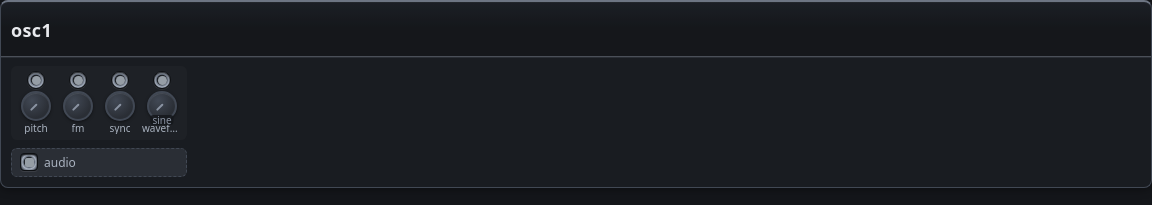
Scenario: module rename › double-click edits; Enter commits the typed name
The width and height of the screenshot is (1152, 205).
Double-click the text with test id "module-name-osc1" at (32, 30), box [11,20,52,38]
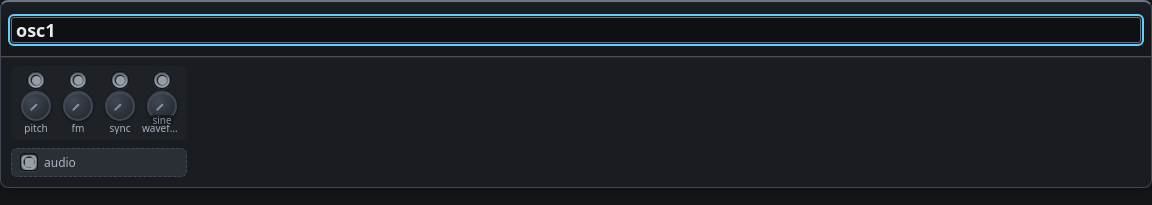
Expected: the field with test id "module-rename-osc1" holds "osc1"
Replace the text in the field with test id "module-rename-osc1" with "Main Osc" at (576, 30), box [11,16,1141,42]
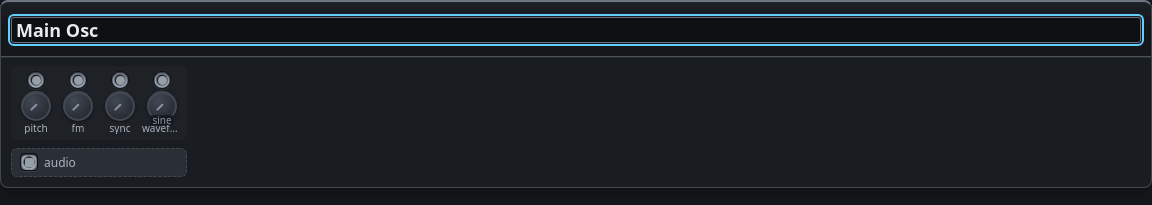
Press Enter in the field with test id "module-rename-osc1", box [11,16,1141,42]
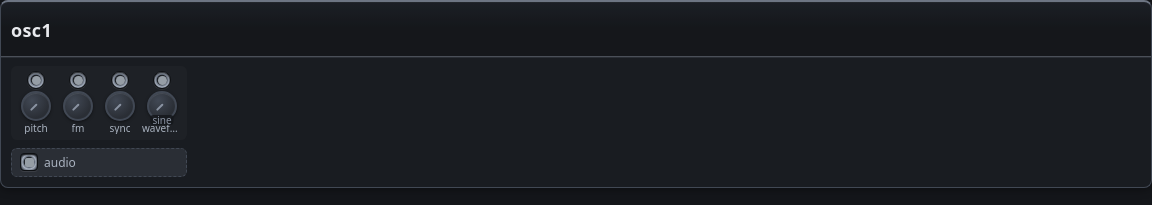
Expected: the field with test id "module-rename-osc1" is gone
